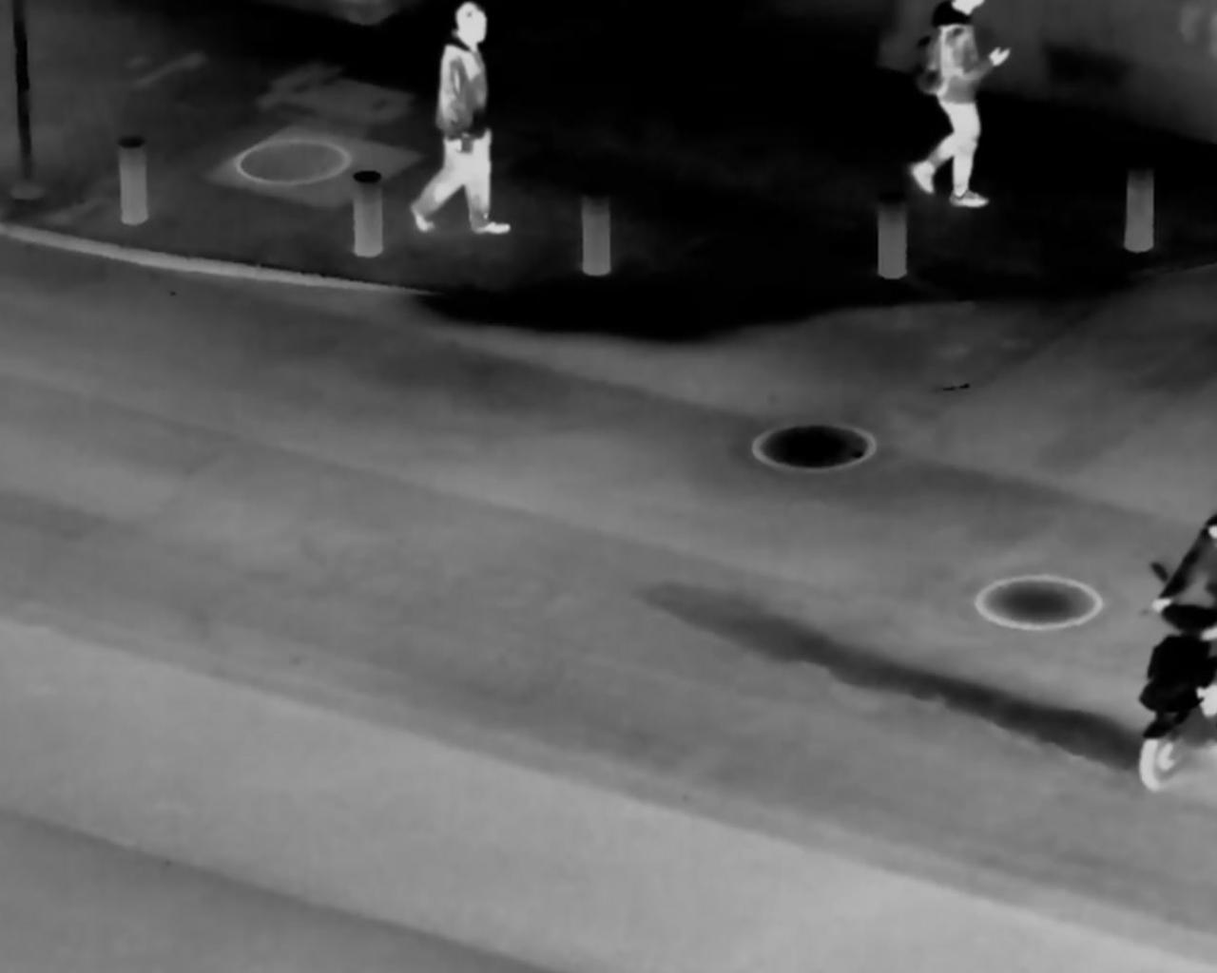person: (907, 4, 1014, 214)
